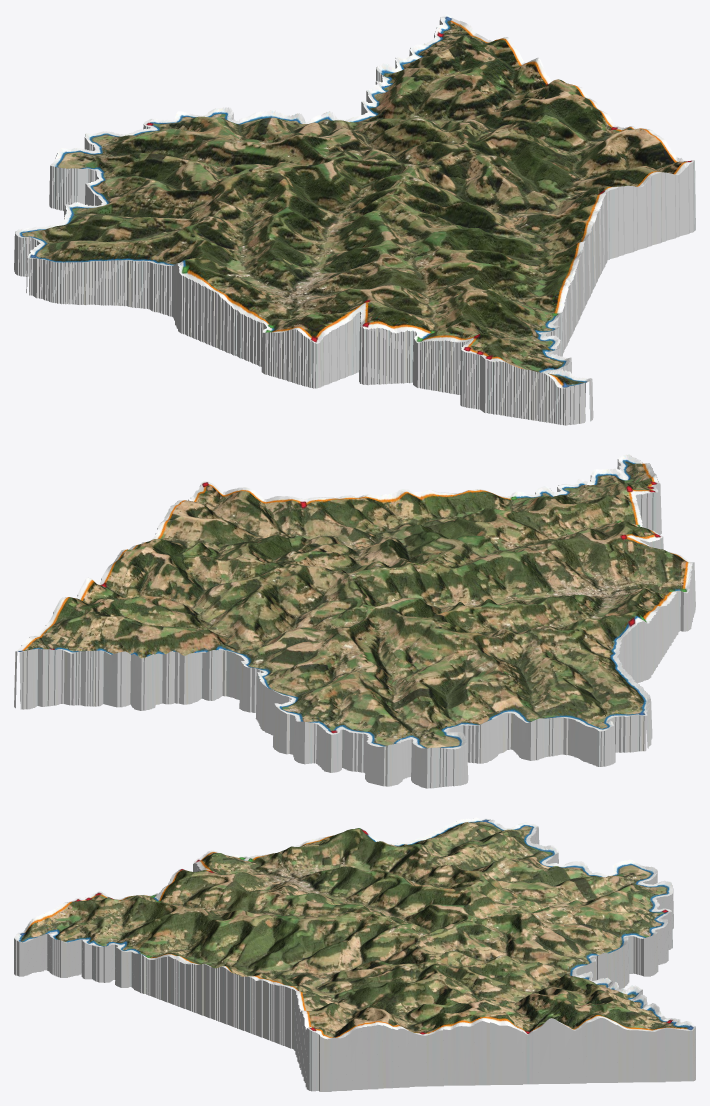
3 renders of one model, top to bottom at view 1: azimuth 30°, elevation 25°; view 2: azimuth 150°, elevation 25°; view 3: azimuth 270°, elevation 25°, orthographic. The views are drawn at different scales.
Bounding box in the file's own units: 1 × 0.1276 × 1.19.
1 material, 1 textured.
